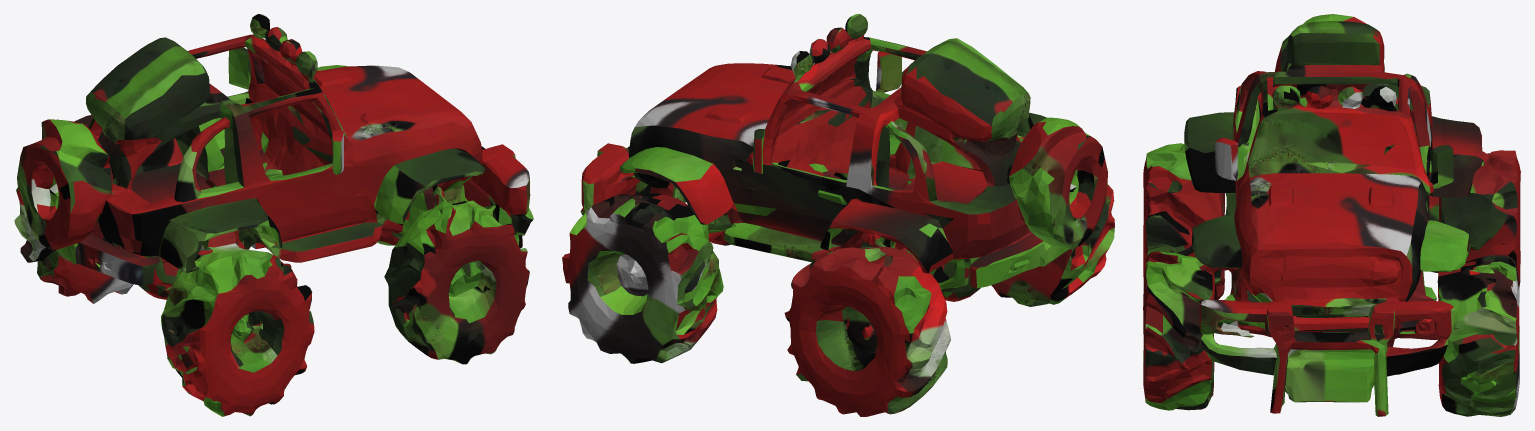
Rendered from sample.obj.
The picture shows the model from 3 angles, left to right: view 1: azimuth 30°, elevation 25°; view 2: azimuth 150°, elevation 25°; view 3: azimuth 270°, elevation 25°; orthographic projection. The views are drawn at different scales.
Size of the model in its own units: 0.5669 by 0.35 by 0.4204.
